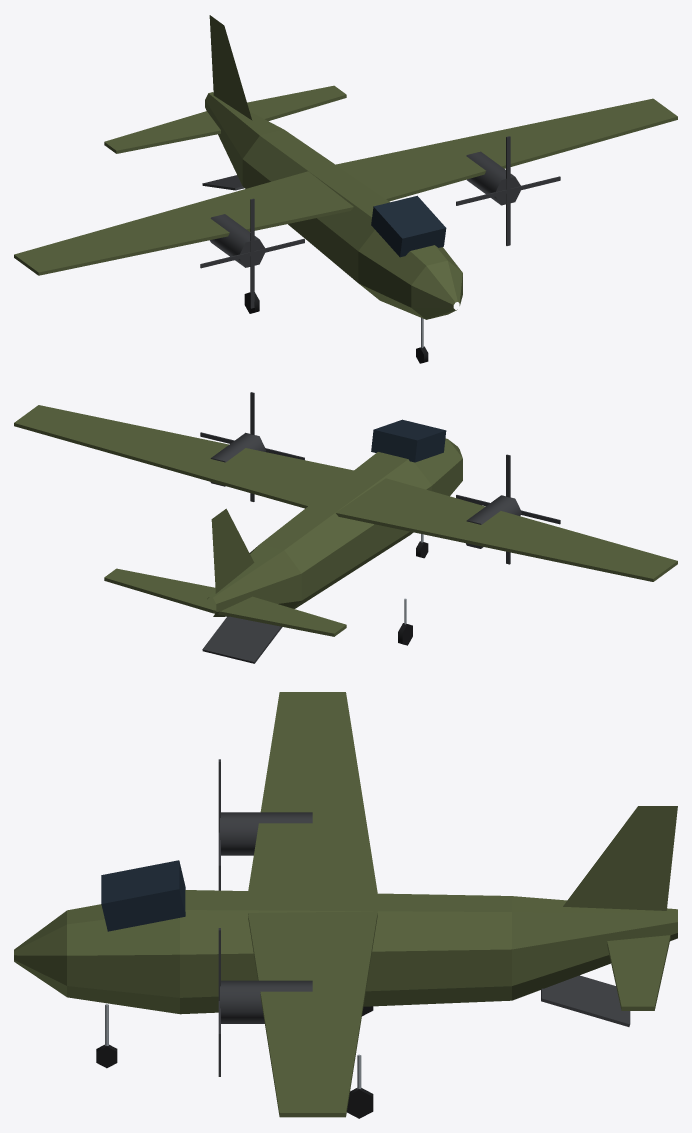
Rendered from veh_air_transport_plane_a06.glb.
3 renders of one model, top to bottom at view 1: azimuth 30°, elevation 25°; view 2: azimuth 150°, elevation 25°; view 3: azimuth 270°, elevation 25°, orthographic. The views are drawn at different scales.
Parts seen in each view (by area): view 1: body, propeller_1, propeller_0; view 2: body, ramp, propeller_0, propeller_1; view 3: body, ramp, gear_2.
Part boxes in pixels (<box>): body: <box>14,15,677,319</box>; propeller_1: <box>456,136,560,245</box>; propeller_0: <box>200,198,304,308</box>; body: <box>14,405,677,636</box>; ramp: <box>202,616,282,663</box>; propeller_0: <box>456,454,560,564</box>; propeller_1: <box>200,392,304,501</box>; body: <box>14,692,677,1117</box>; ramp: <box>541,975,630,1026</box>; gear_2: <box>347,1054,373,1118</box>.
Size of what is drawn, in the model's own units: 24.72 by 7.16 by 16.48.
